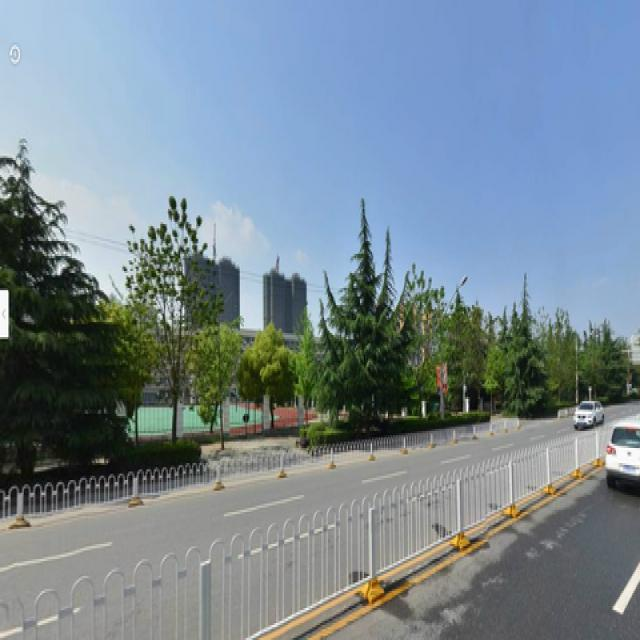cedr: (315, 215, 409, 414)
